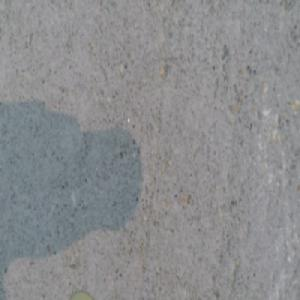Washer: (71, 286, 94, 300)
